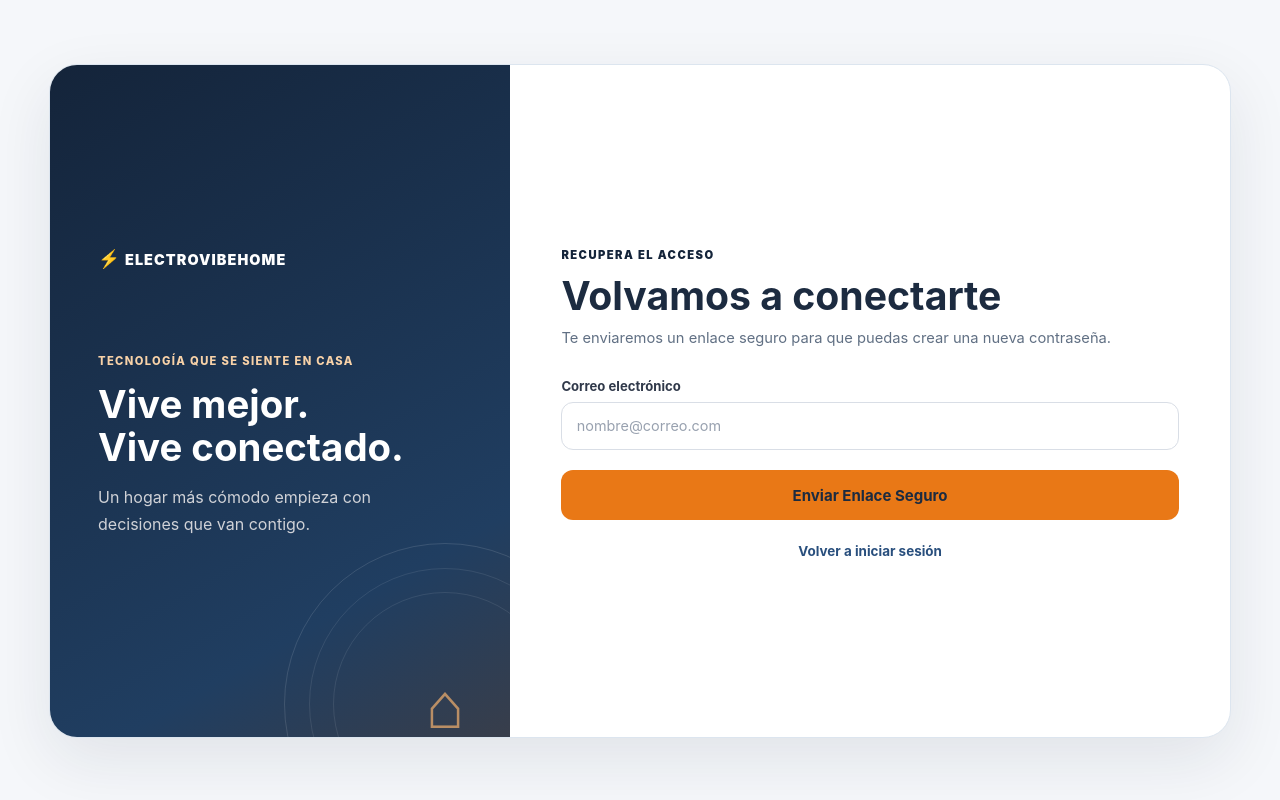
Test: RecoverPassword › does not make a request if the backend URL is missing
Step 1. Type "cliente@example.com" into the field labelled "Correo electrónico" → (870, 426), box [561,402,1179,450]
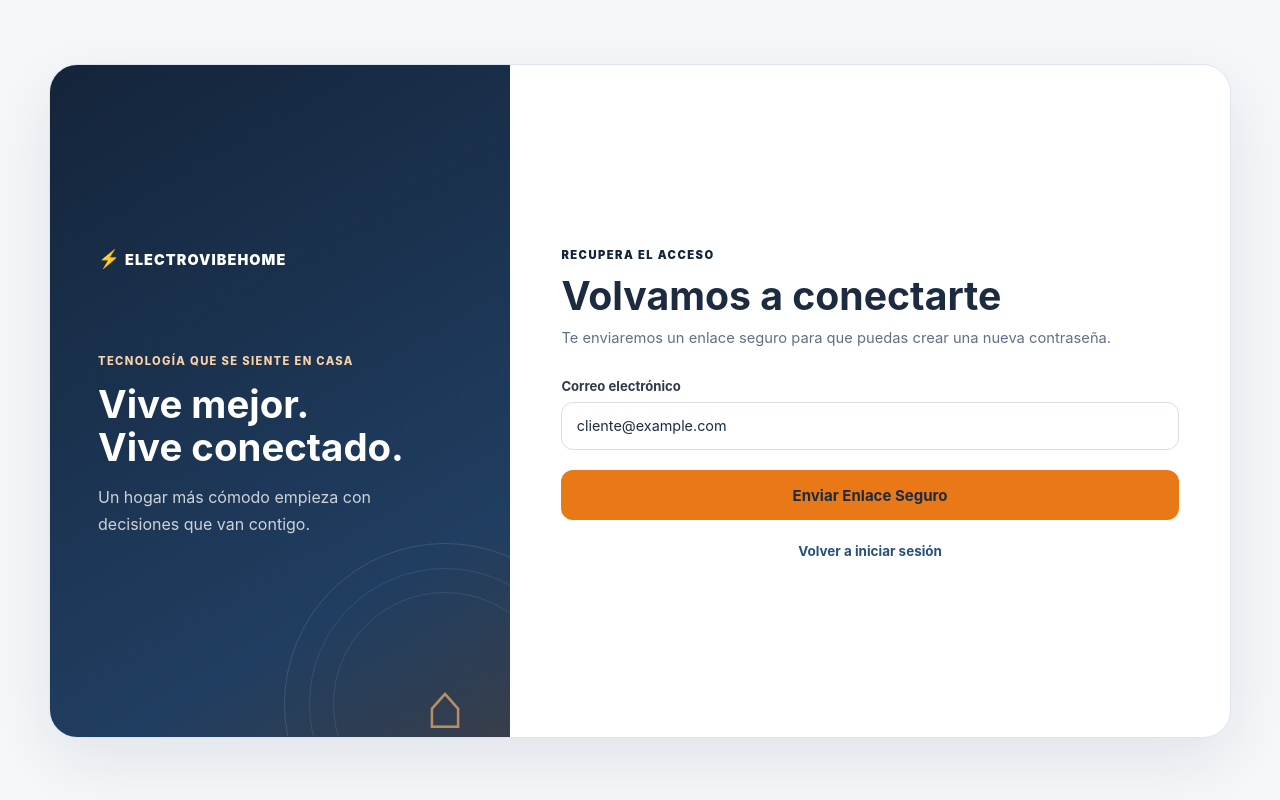
Step 2. Submit the form labelled "Correo electrónico Enviar Enlace Seguro", box [561,378,1179,520]
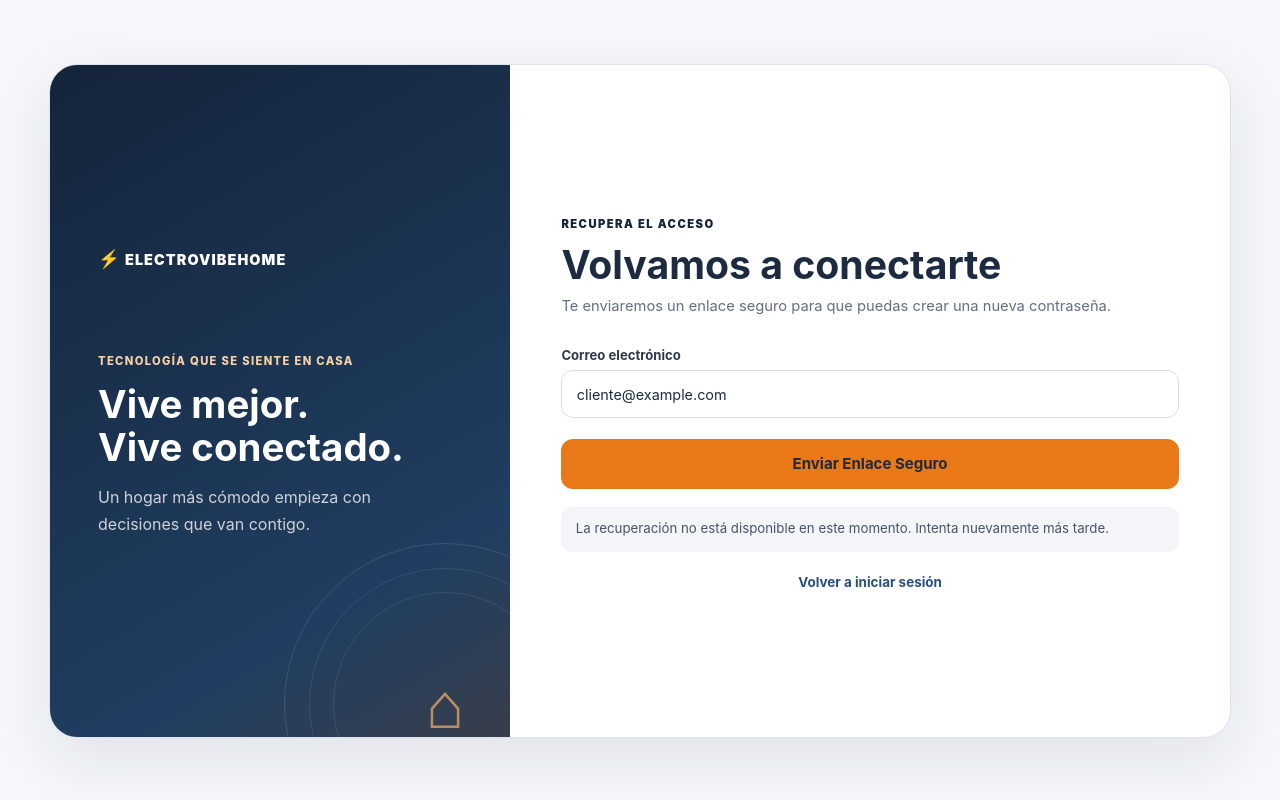
Result: the message shows "recuperación no está disponible" at [576,520,1109,536]
